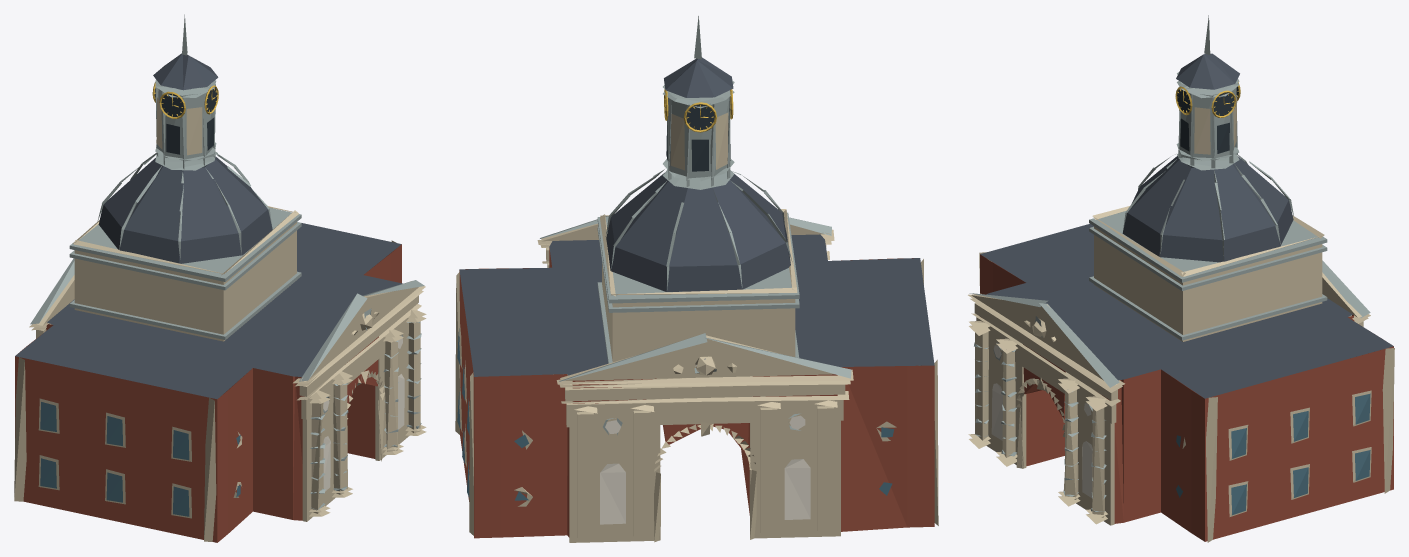
Rendered from muiderpoort.lod1.glb.
3 renders of one model, left to right at view 1: azimuth 30°, elevation 25°; view 2: azimuth 150°, elevation 25°; view 3: azimuth 270°, elevation 25°, orthographic. The views are drawn at different scales.
Visible parts, largest first — view 1: muiderpoort; view 2: muiderpoort; view 3: muiderpoort.
Part boxes in pixels (<box>): muiderpoort: <box>14,14,426,542</box>; muiderpoort: <box>455,16,938,542</box>; muiderpoort: <box>968,15,1394,542</box>.
Size of the model in its own units: 28.02 by 27.8 by 25.46.
